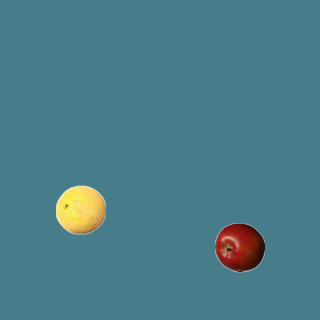Apple Braeburn: (214, 222, 264, 272)
Cantaloupe 1: (55, 184, 105, 234)
